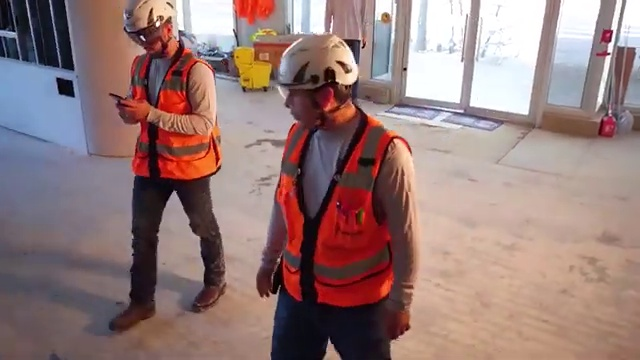helmet: (273, 35, 368, 90), (120, 1, 176, 39)
jacket: (273, 120, 408, 315), (133, 53, 219, 178)
